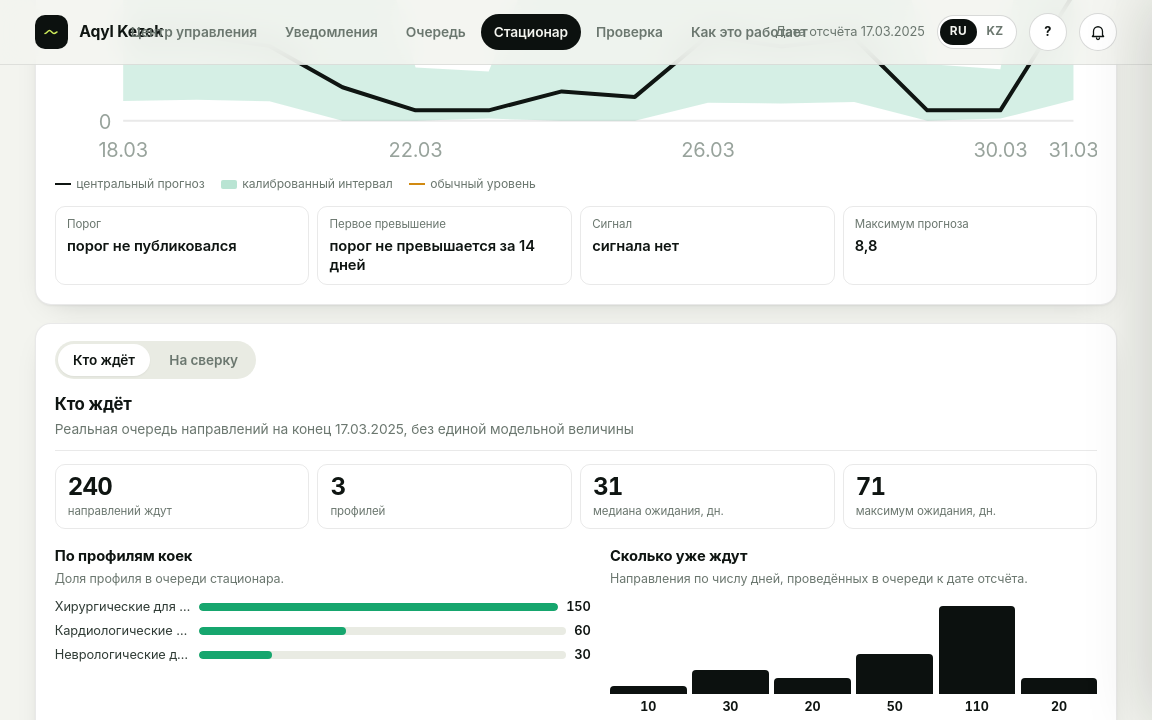
it: Hospital mode › the verification worklist is a second tab, not a second queue
(page scrolled)
Click the tab "На сверку". click: (204, 360)
box: top-left (154, 344), bottom-right (253, 376)
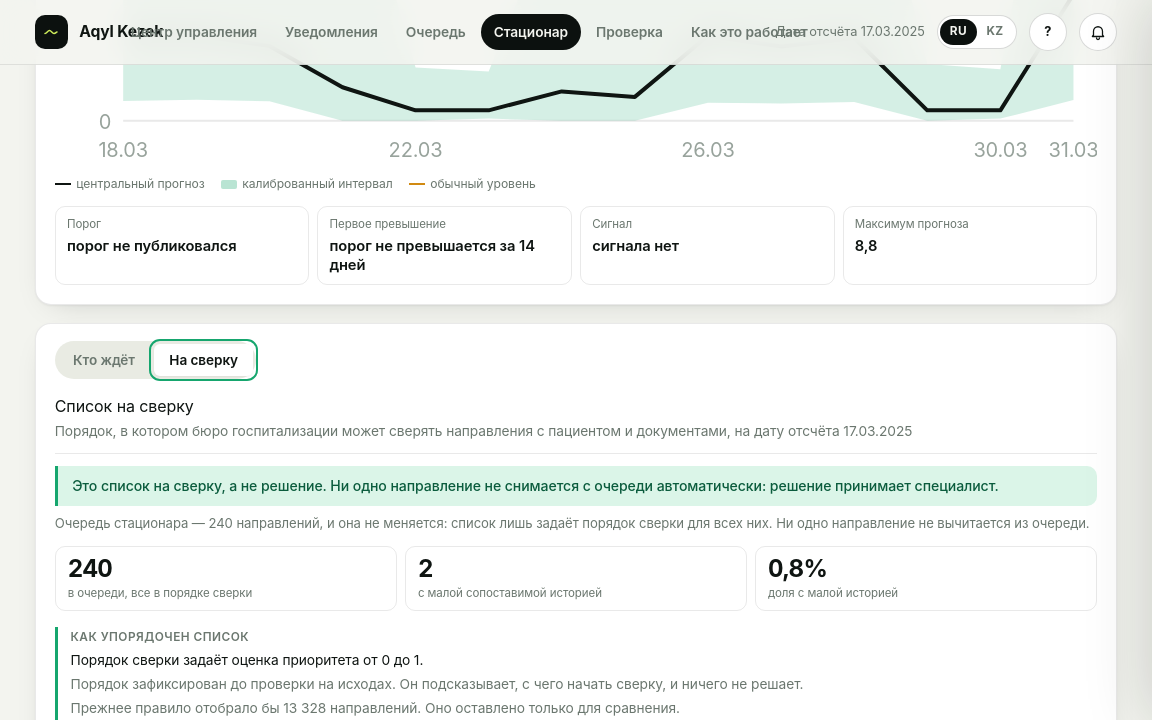
Expected: the heading "Список на сверку" is shown, top-left (55, 396), bottom-right (194, 416)
